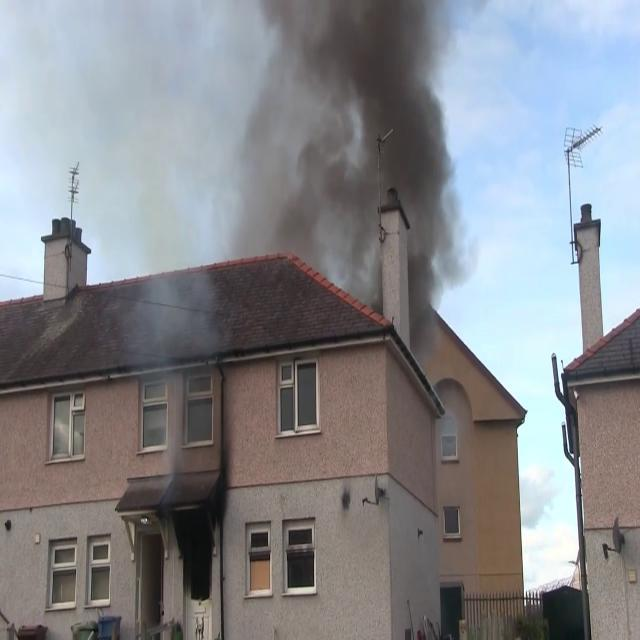Smoke: (258, 0, 468, 324), (96, 0, 255, 384)
